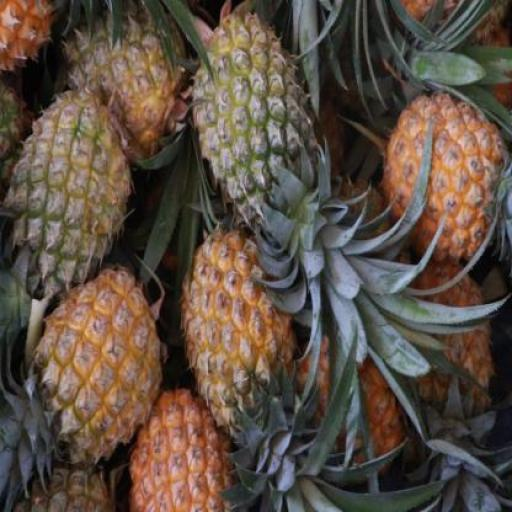------------------------------: (187, 5, 318, 228), (7, 99, 128, 297), (61, 0, 181, 158)
Pineapple - v8 v1: (37, 269, 161, 467), (181, 234, 298, 432), (384, 85, 505, 269), (129, 391, 241, 512)
